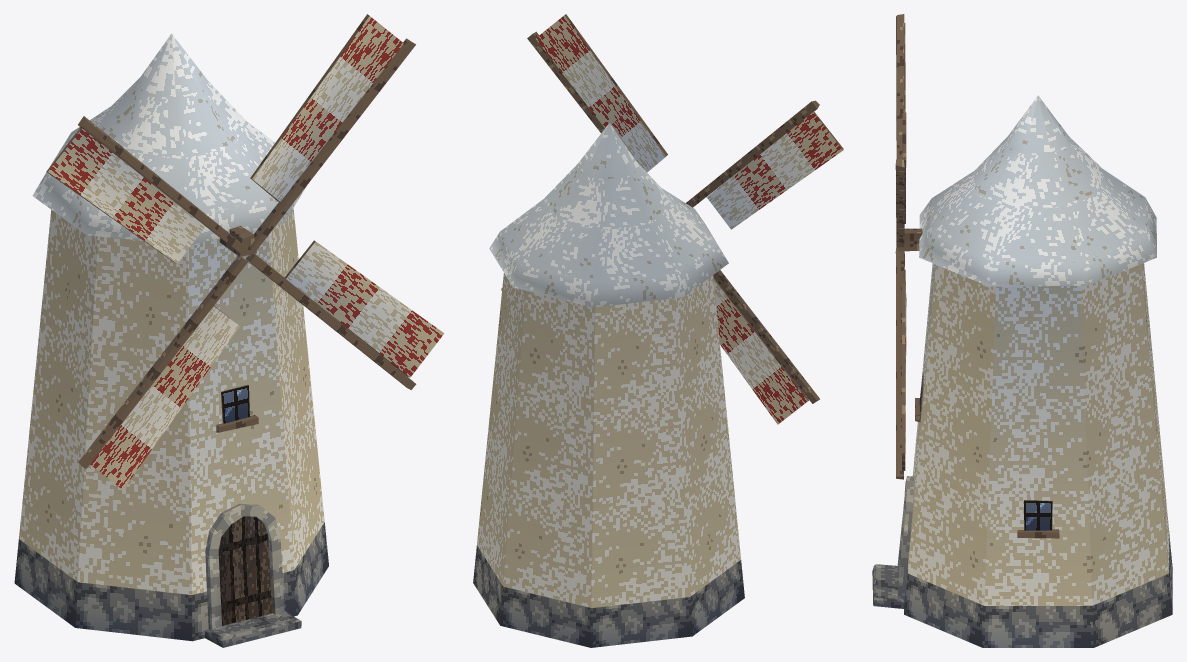
Rendered from vlg.mill__turned.glb.
The picture shows the model from 3 angles, left to right: view 1: azimuth 30°, elevation 25°; view 2: azimuth 150°, elevation 25°; view 3: azimuth 270°, elevation 25°; orthographic projection. The views are drawn at different scales.
Visible parts, largest first — view 1: kit_walls, kit_fittings, kit_roof, kit_frame; view 2: kit_walls, kit_roof, kit_fittings, kit_frame; view 3: kit_walls, kit_roof, kit_fittings, kit_frame.
Boxes of the visible parts, x1,y1,x2,y2 form: kit_walls: (14,208,328,641); kit_fittings: (46,14,444,647); kit_roof: (32,33,305,244); kit_frame: (78,38,416,468); kit_walls: (473,273,744,647); kit_roof: (489,123,728,307); kit_fittings: (501,14,843,424); kit_frame: (527,31,819,403); kit_walls: (904,263,1172,647); kit_roof: (919,95,1156,286); kit_fittings: (872,23,1059,608); kit_frame: (895,14,922,479).
Size of the model in its own units: 7.5 by 10.56 by 5.37.
9 materials, 9 textured.
